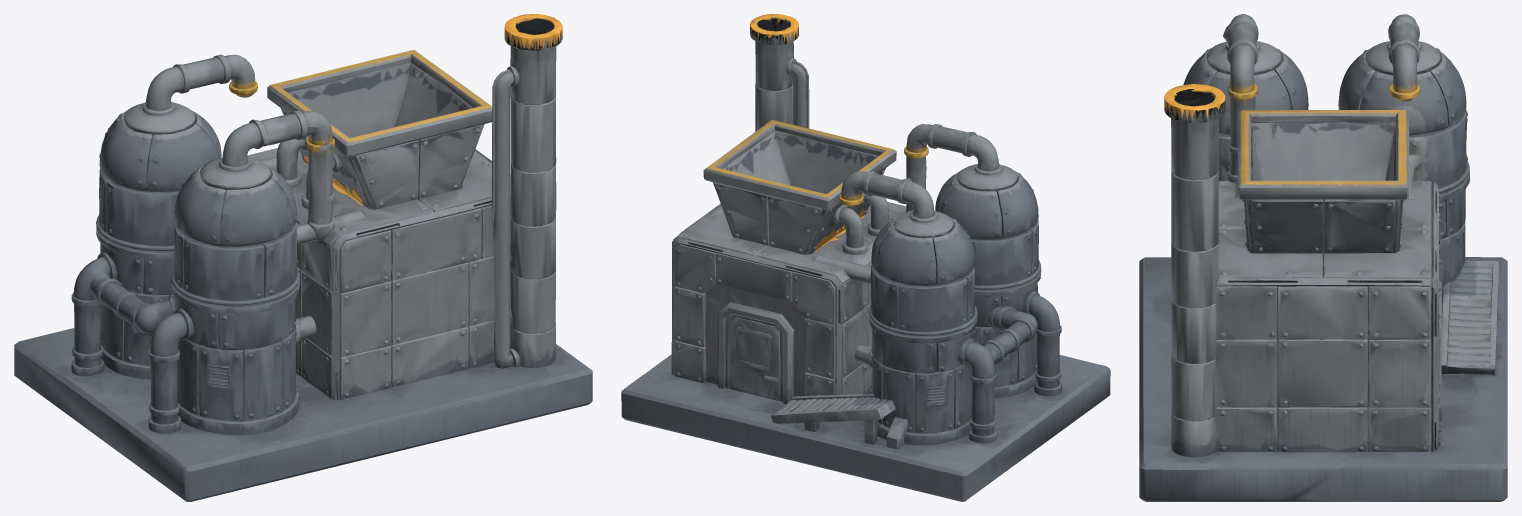
Rendered from town-refinery-full.glb.
3 renders of one model, left to right at view 1: azimuth 30°, elevation 25°; view 2: azimuth 150°, elevation 25°; view 3: azimuth 270°, elevation 25°, orthographic. The views are drawn at different scales.
Parts seen in each view (by area): view 1: town-refinery-full; view 2: town-refinery-full; view 3: town-refinery-full.
Boxes of the visible parts, box(x1,y1,x2,y2) form: town-refinery-full: box(14, 14, 592, 501); town-refinery-full: box(621, 14, 1110, 501); town-refinery-full: box(1139, 14, 1507, 501).
Bounding box in the file's own units: 14.4 × 12.39 × 10.64.
Materials: 1 (1 with a texture image).
